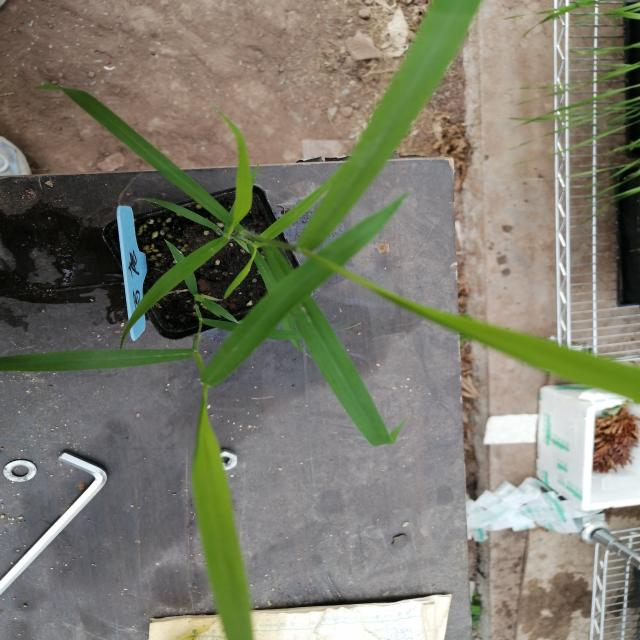crabgrass: (55, 112, 586, 467)
